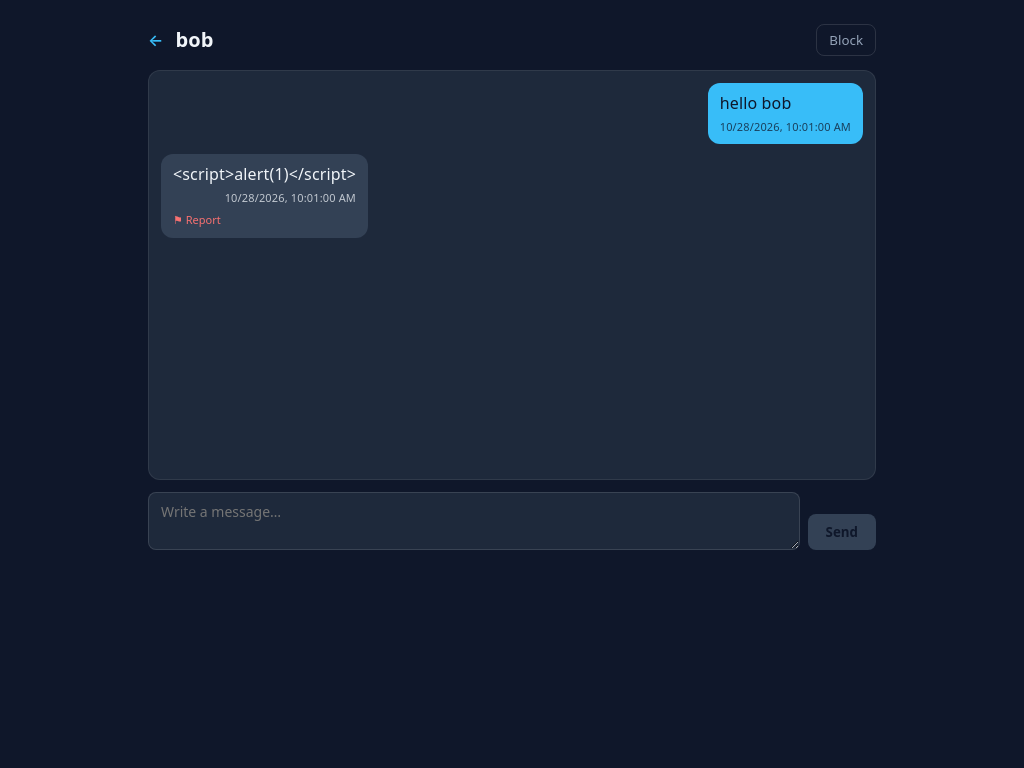
Test: MessageThreadPage (chat) › reports a received message with a picked reason
Click the button with test id "msg-report-btn-11" at x=197, y=220, box [173,212,221,227]
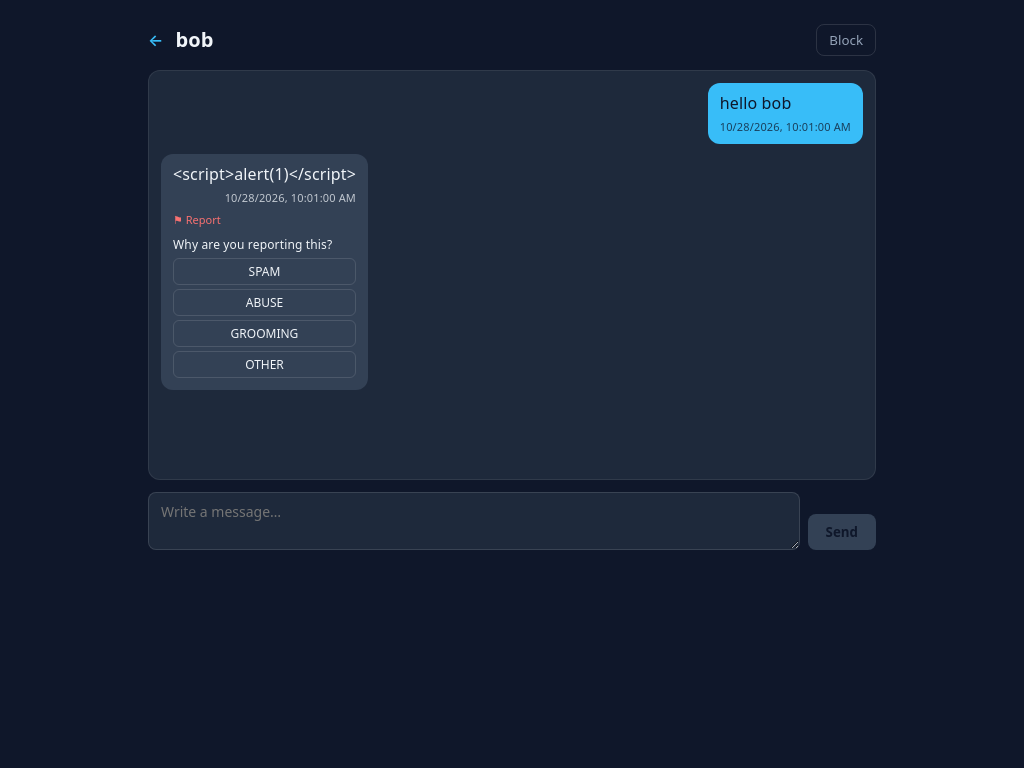
Click the button with test id "msg-report-reason-GROOMING" at x=264, y=334, box [173,320,356,347]
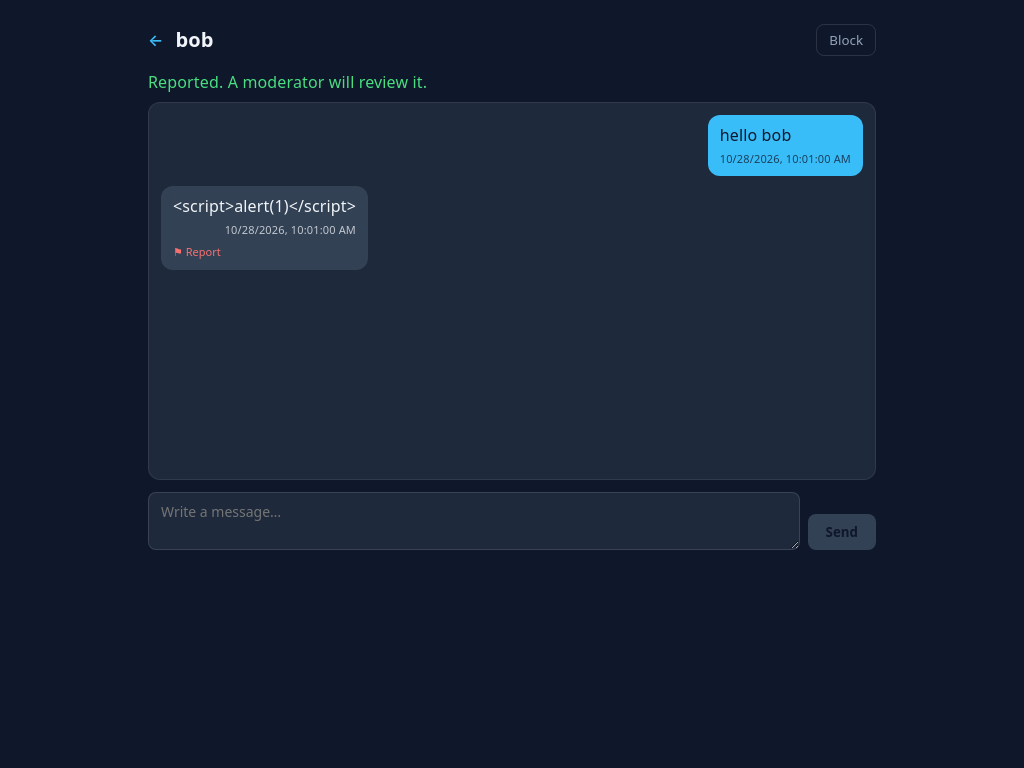
Now the message with test id "msg-notice" shows "A moderator will review", box [148,71,427,93]
